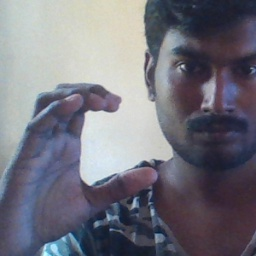C: (22, 77, 160, 218)
